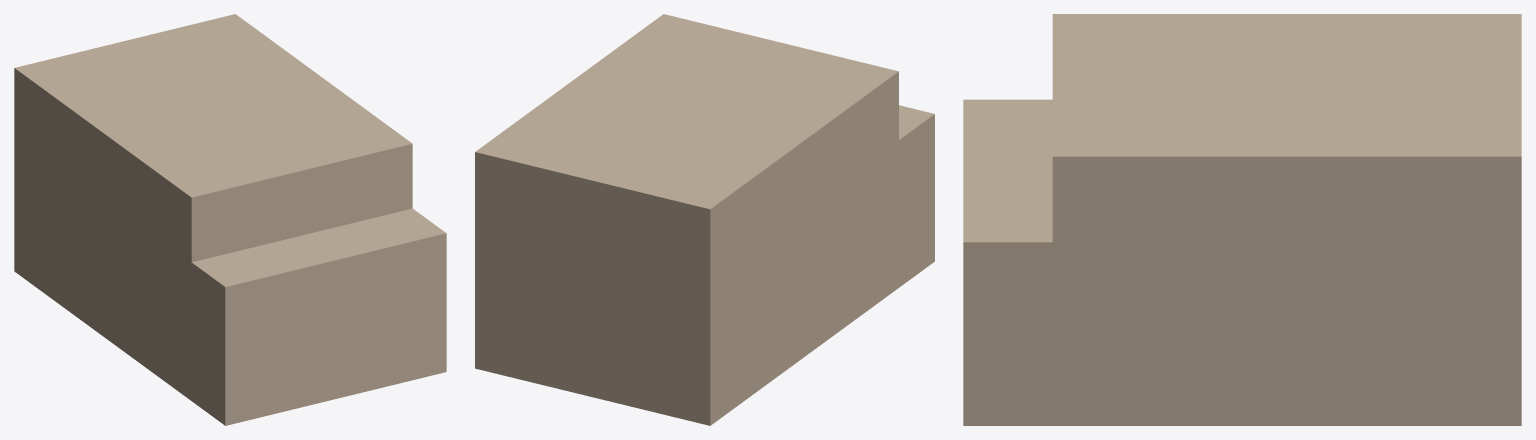
File: massing.glb
3 renders of one model, left to right at view 1: azimuth 30°, elevation 25°; view 2: azimuth 150°, elevation 25°; view 3: azimuth 270°, elevation 25°, orthographic. The views are drawn at different scales.
Parts seen in each view (by area): view 1: building/exterior; view 2: building/exterior; view 3: building/exterior.
Part boxes in pixels (left/top/right/bottom): building/exterior: left=14, top=14, right=446, bottom=425; building/exterior: left=475, top=14, right=934, bottom=425; building/exterior: left=963, top=14, right=1521, bottom=425.
Size of the model in its own units: 10 by 8.8 by 16.54.
